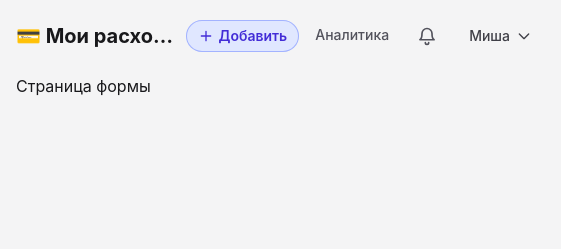
Test: AppShell › меню пользователя › клик вне меню закрывает его
What coordinates should you click on to do the following:
click the button with aria-label "Меню пользователя"
I would click on:
 (501, 36)
Its box is [457,16,544,56].
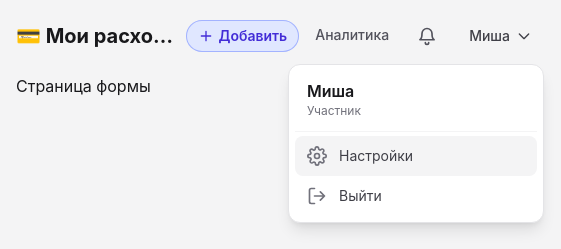
What coordinates should you click on to do the following:
click the text "Страница формы"
I would click on:
 (83, 86)
Its box is [16,76,151,96].
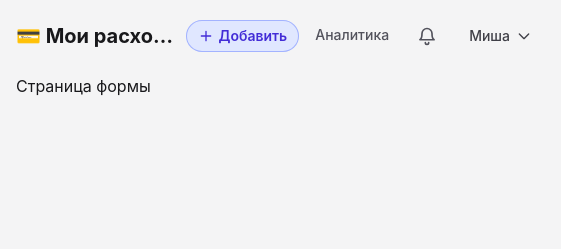
Result: the menu is gone
